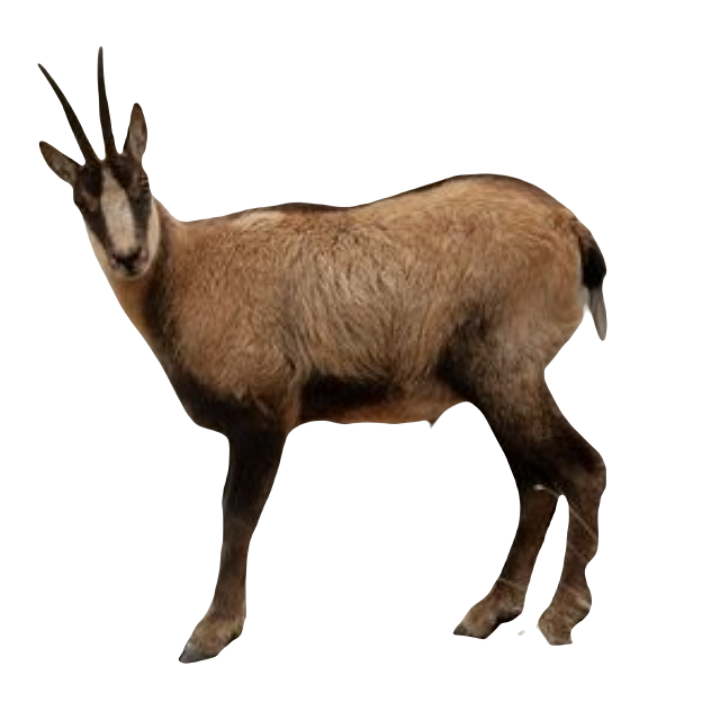Goat: (32, 44, 612, 664)
